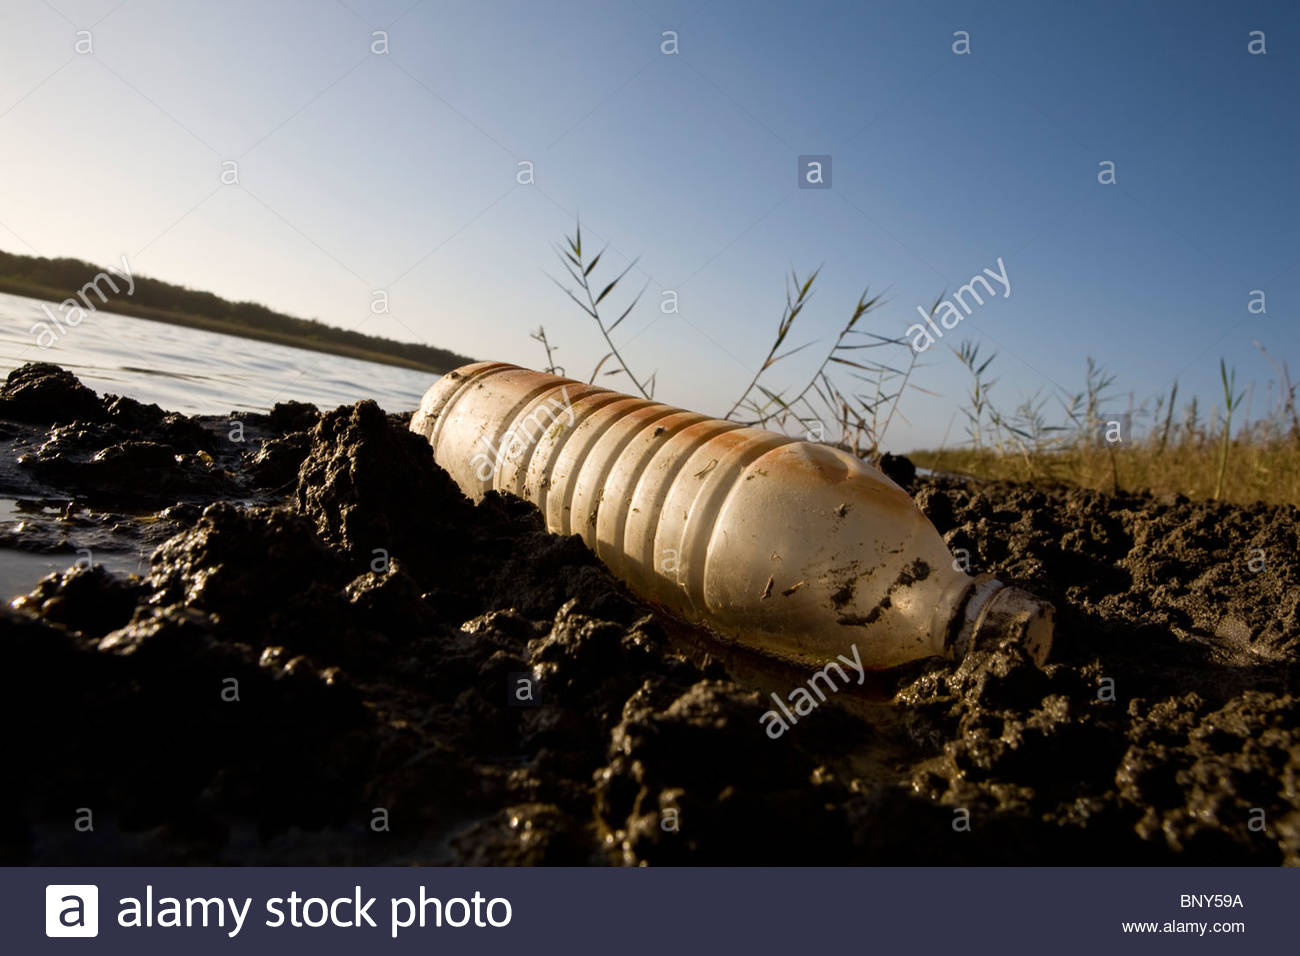bottle: (401, 363, 1058, 700)
